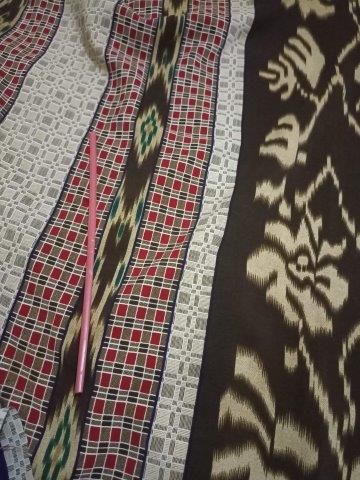sedotan: (75, 132, 96, 393)
